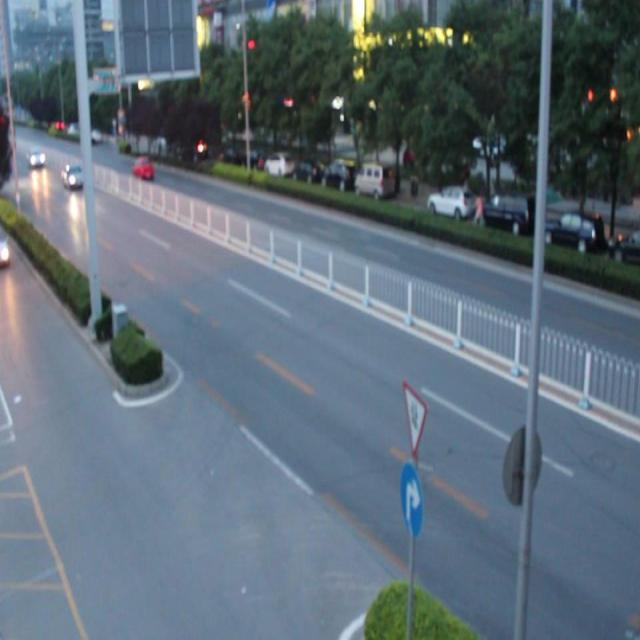car: (132, 156, 155, 179), (62, 165, 85, 188)
